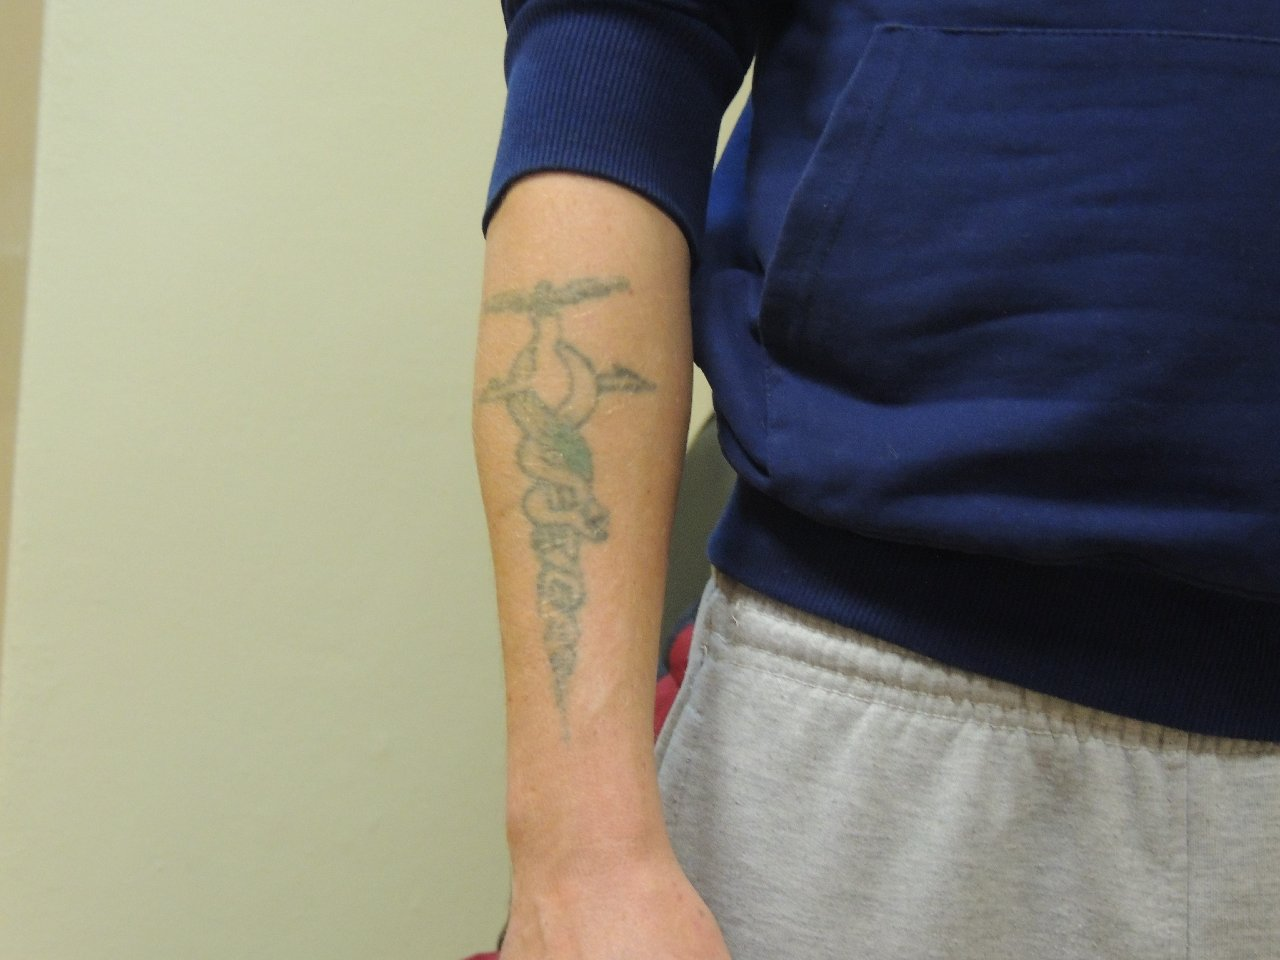tatu7_zmeya: (497, 287, 635, 777)
